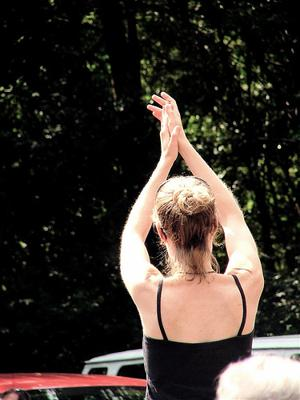person: (119, 92, 266, 400)
